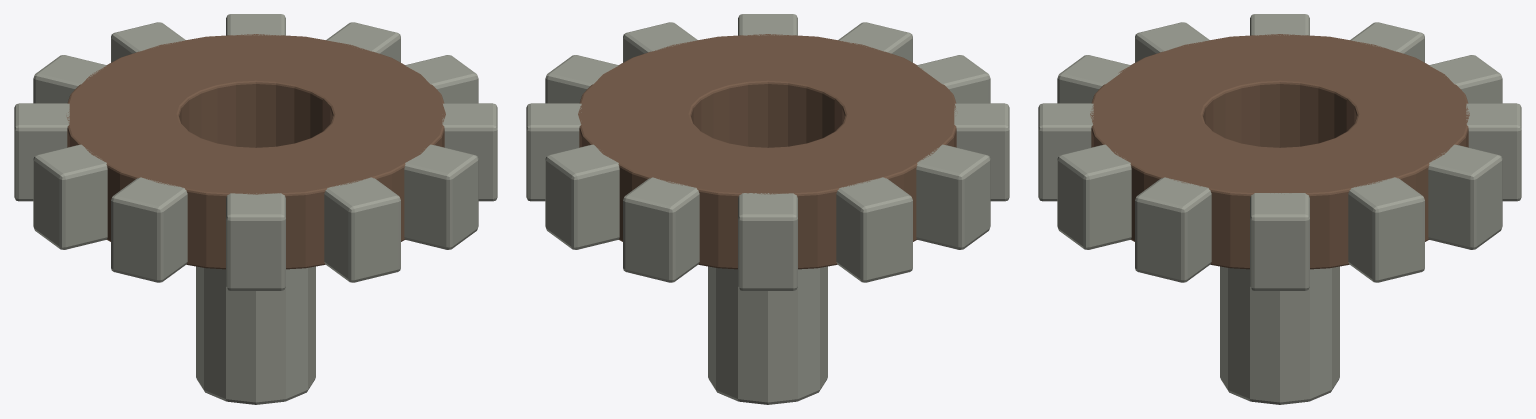
Rendered from mechanical_part.glb.
3 views of the same model, side by side, from view 1: azimuth 30°, elevation 25°; view 2: azimuth 150°, elevation 25°; view 3: azimuth 270°, elevation 25° (orthographic).
Visible parts, largest first — view 1: mechanical_part; view 2: mechanical_part; view 3: mechanical_part.
Boxes of the visible parts, x1,y1,x2,y2 form: mechanical_part: (14, 14, 497, 404); mechanical_part: (526, 14, 1009, 404); mechanical_part: (1038, 14, 1521, 404).
Size of the model in its own units: 0.201 by 0.1225 by 0.201.
